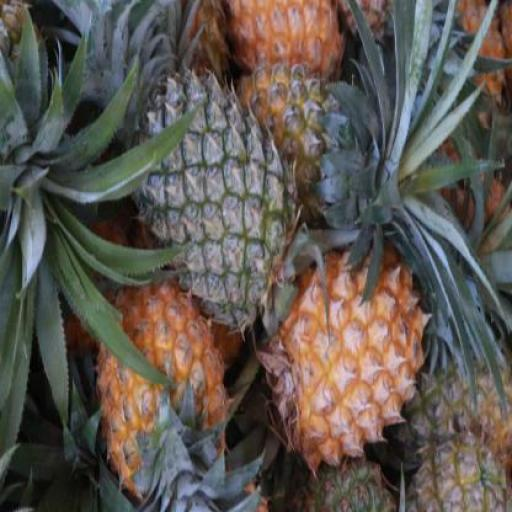Pineapple - v8 v1: (265, 237, 430, 466), (92, 280, 230, 500), (231, 0, 346, 90)
